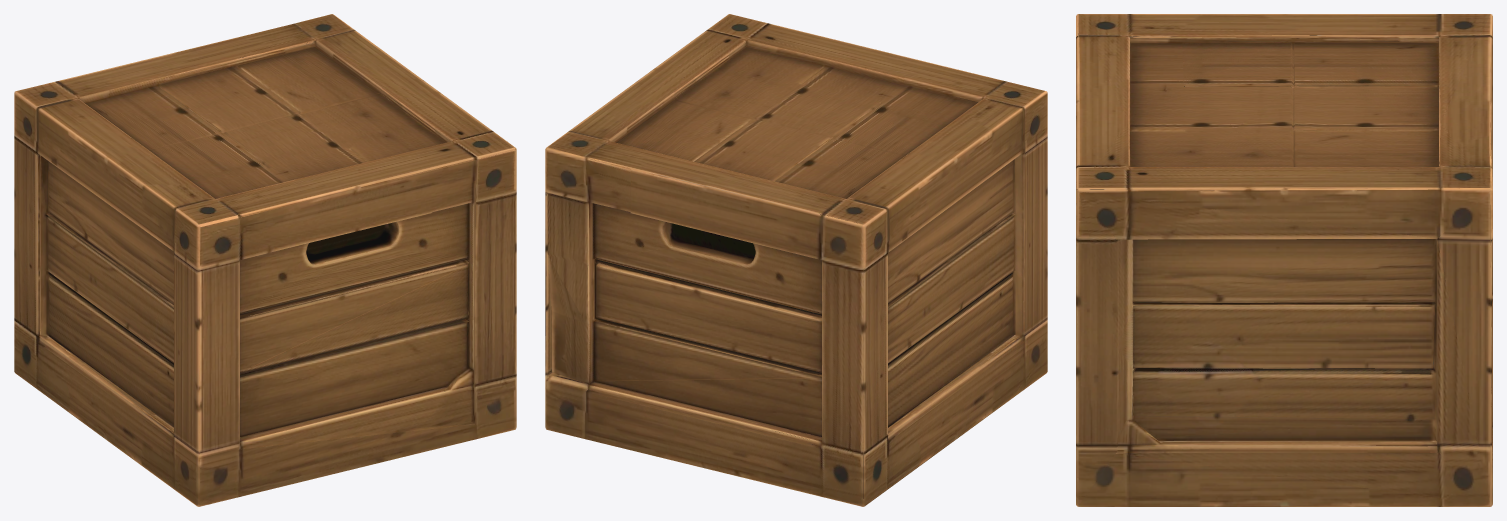
Rendered from env_crate.glb.
The picture shows the model from 3 angles, left to right: view 1: azimuth 30°, elevation 25°; view 2: azimuth 150°, elevation 25°; view 3: azimuth 270°, elevation 25°; orthographic projection. The views are drawn at different scales.
Bounding box in the file's own units: 1.91 × 1.61 × 1.91.
1 material, 1 textured.
